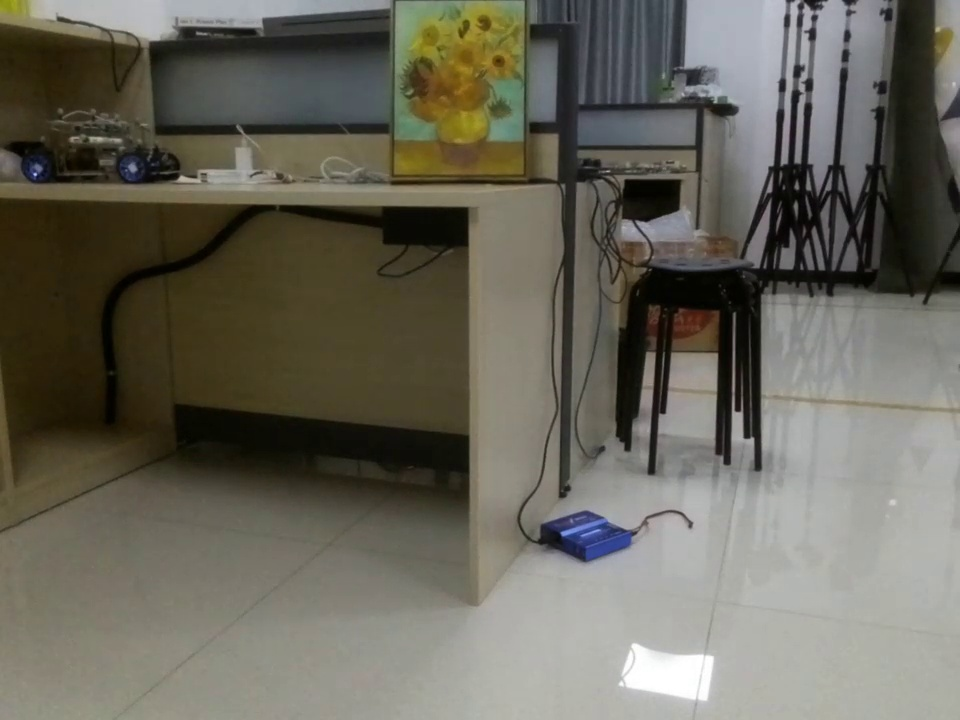painting: (387, 1, 539, 187)
